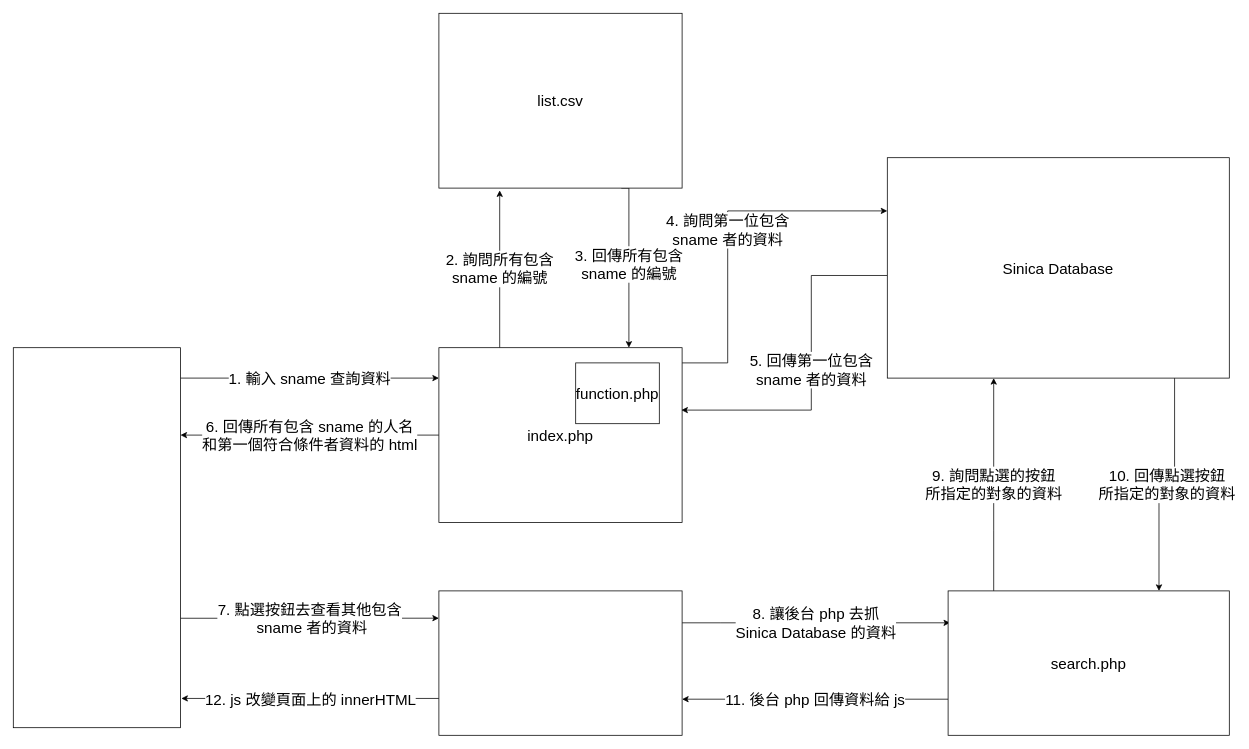
Image size: 1249x749. Some labels were removed from this diagram. The box of each missing label's shape, as (x1, y1, x2, y2) in pixels:
changePage.js: (438, 590, 682, 735)
Client: (13, 347, 180, 728)
